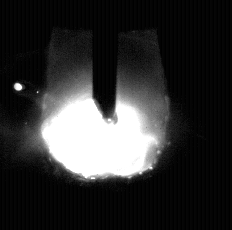arame: (92, 0, 118, 123)
poca: (38, 0, 168, 230)
